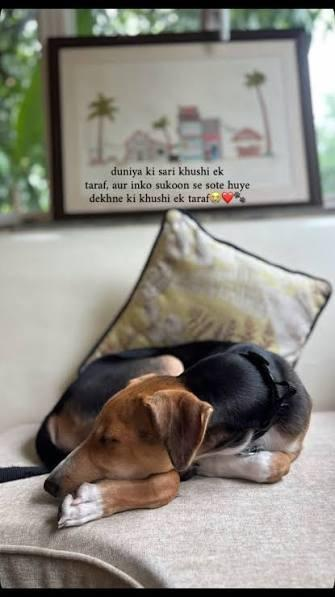adult_dog: (34, 340, 313, 529)
